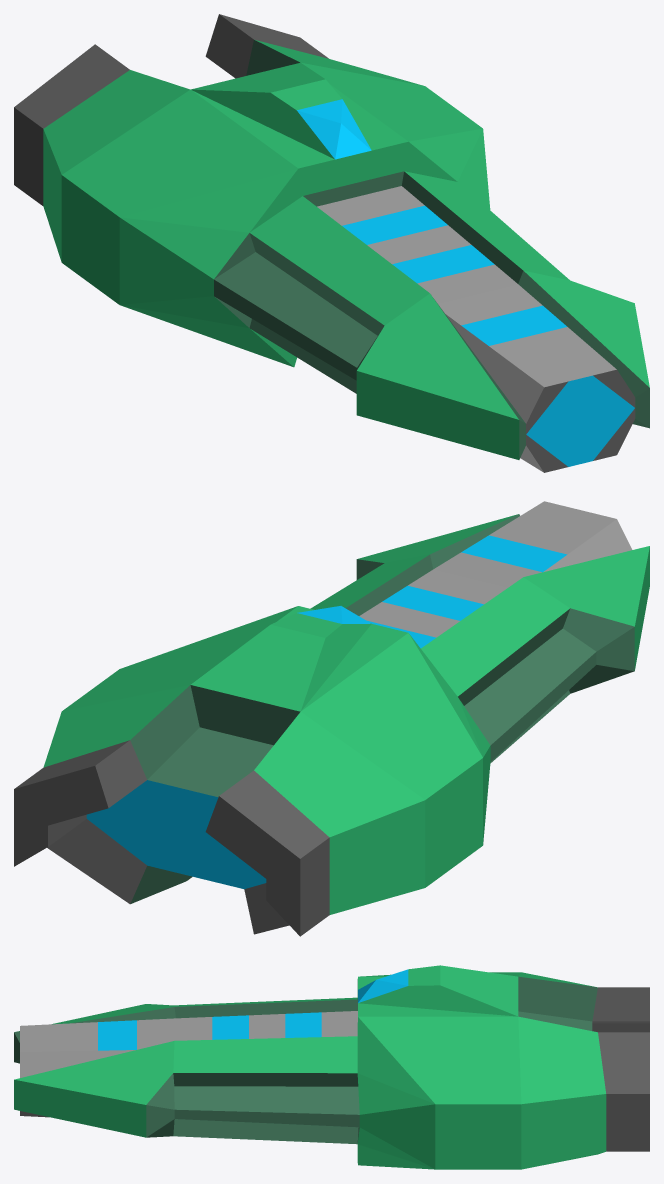
Rendered from tri_frigate_artillery.fbx.
3 views of the same model, one above another, from view 1: azimuth 30°, elevation 25°; view 2: azimuth 150°, elevation 25°; view 3: azimuth 270°, elevation 25° (orthographic). The views are drawn at different scales.
Parts seen in each view (by area): view 1: tri_frigate_artillery; view 2: tri_frigate_artillery; view 3: tri_frigate_artillery.
Boxes of the visible parts, x1=… form: tri_frigate_artillery: x1=14, y1=14, x2=649, y2=472; tri_frigate_artillery: x1=14, y1=501, x2=649, y2=936; tri_frigate_artillery: x1=14, y1=965, x2=649, y2=1169.
Bounding box in the file's own units: 23.1 × 13.75 × 47.04.
1 material, 1 textured.
